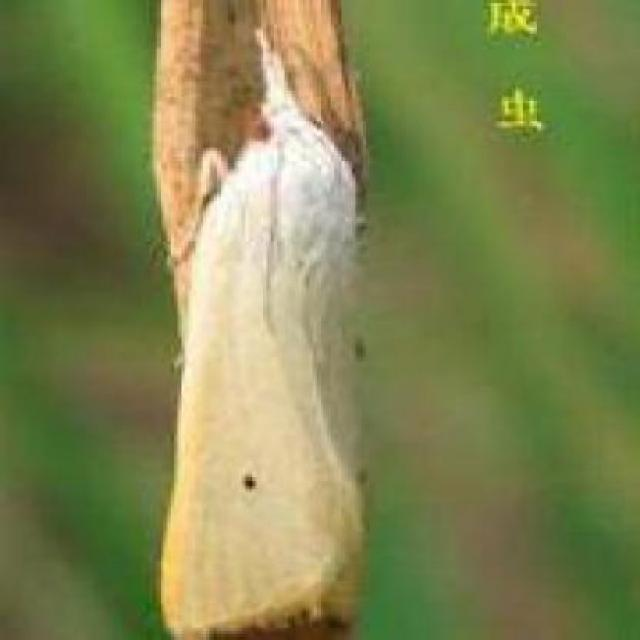stem-borer: (158, 20, 370, 640)
